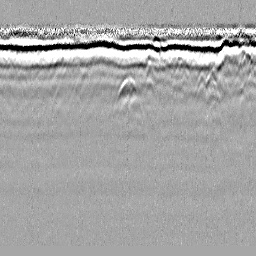cavity: (112, 74, 145, 121)
